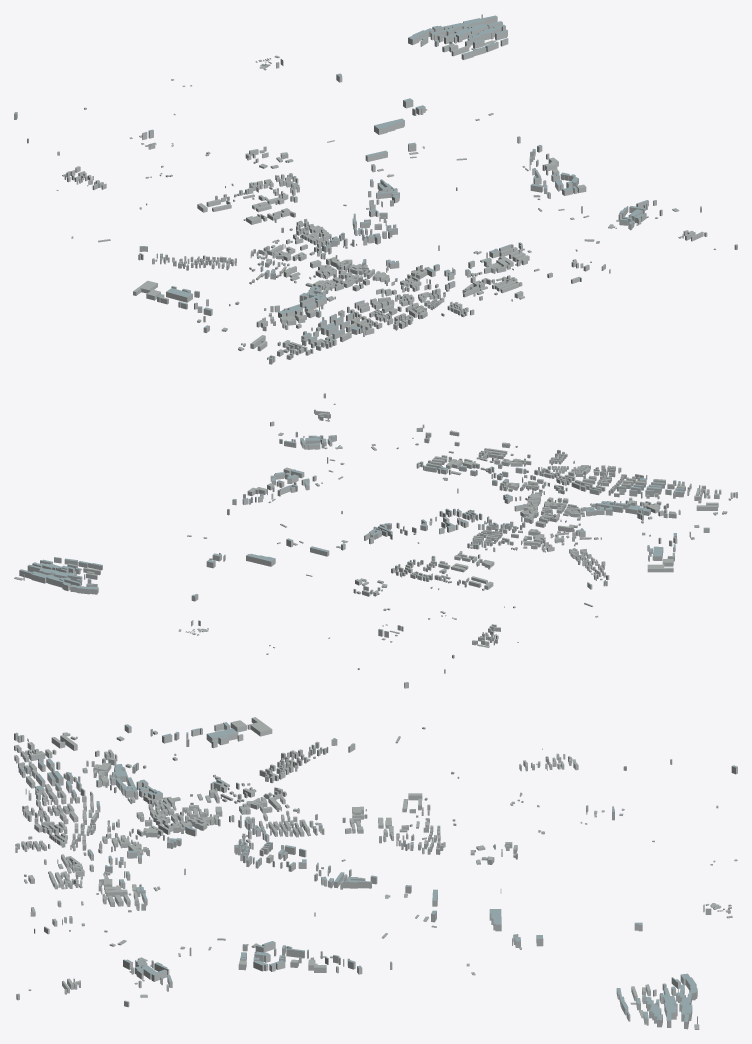
The picture shows the model from 3 angles, top to bottom: view 1: azimuth 30°, elevation 25°; view 2: azimuth 150°, elevation 25°; view 3: azimuth 270°, elevation 25°; orthographic projection. The views are drawn at different scales.
Parts seen in each view (by area): view 1: 上海全域建筑分块 · mapped building neighborhood; view 2: 上海全域建筑分块 · mapped building neighborhood; view 3: 上海全域建筑分块 · mapped building neighborhood.
Part boxes in pixels (left/top/right/bottom): 上海全域建筑分块 · mapped building neighborhood: left=14, top=14, right=737, bottom=364; 上海全域建筑分块 · mapped building neighborhood: left=14, top=393, right=737, bottom=688; 上海全域建筑分块 · mapped building neighborhood: left=14, top=717, right=737, bottom=1029.
Bounding box in the file's own units: 2124 × 26.41 × 2107.
